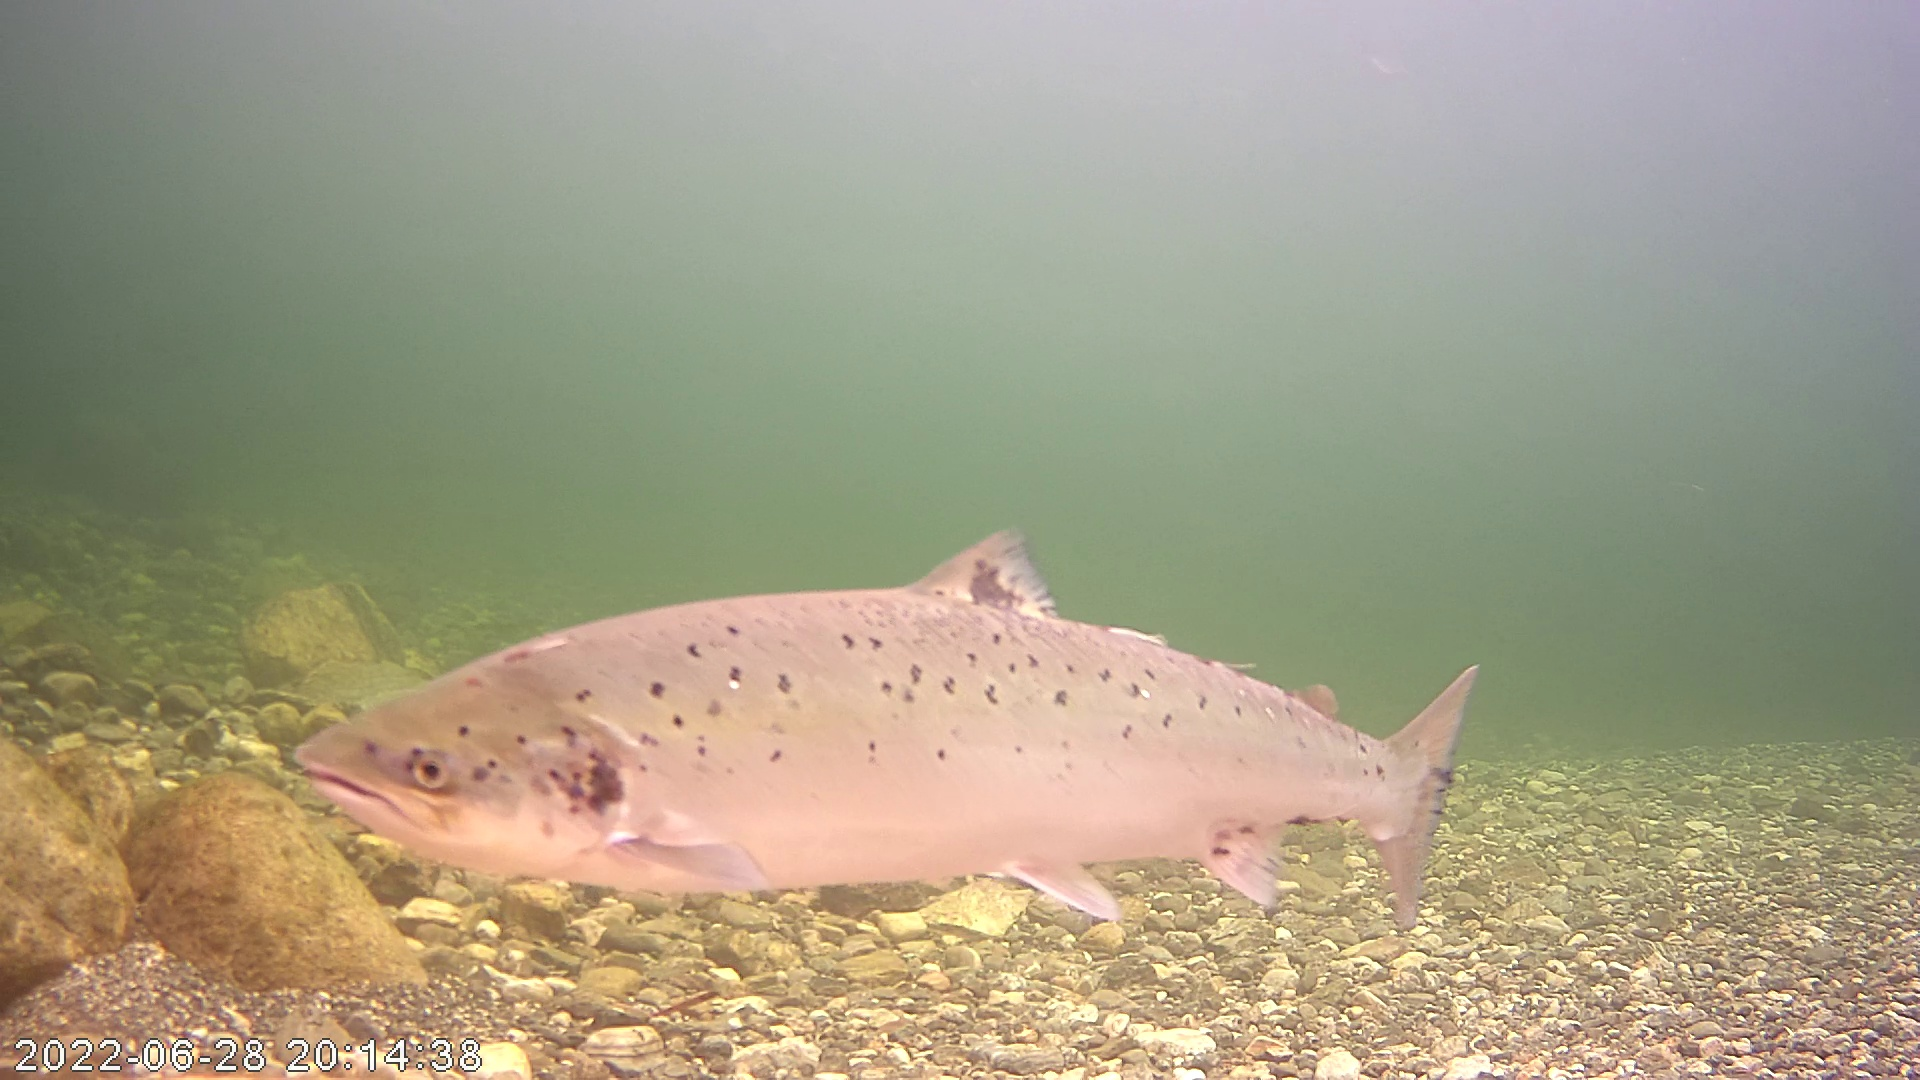salmon: (357, 469, 1498, 891)
